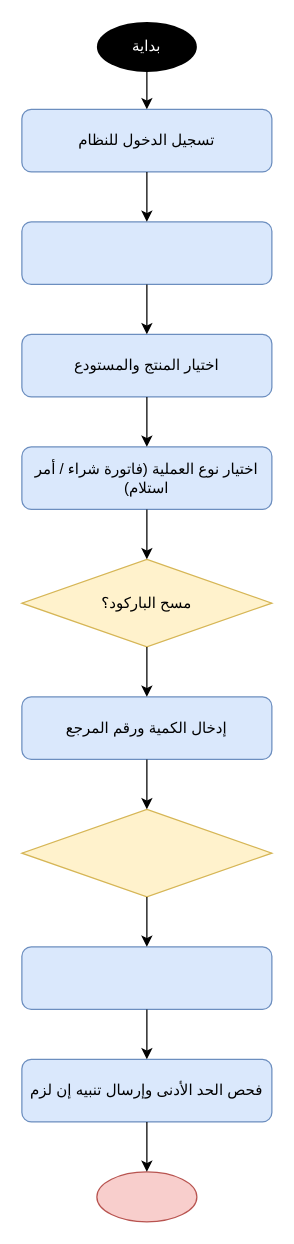
The diagram is 294 pixels wide and 1244 high, and some of its shapes have lost their labels. Here are the shapes that lost their labels. From the top down, the centre of each, then its label:
At point 146,252: "فتح صفحة إدخال مخزون".
At point 146,852: "التحقق من صحة البيانات".
At point 146,977: "تحديث StockLevel + تسجيل StockMovement".
At point 146,1196: "نهاية".
